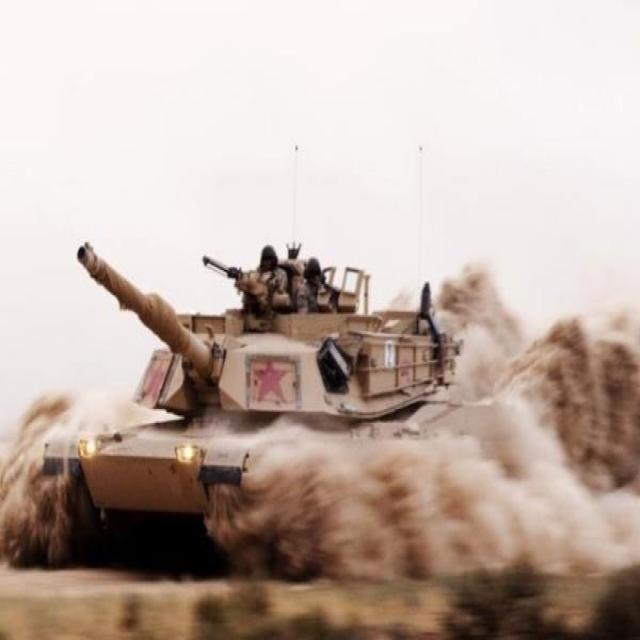Tanks: (51, 235, 474, 552)
